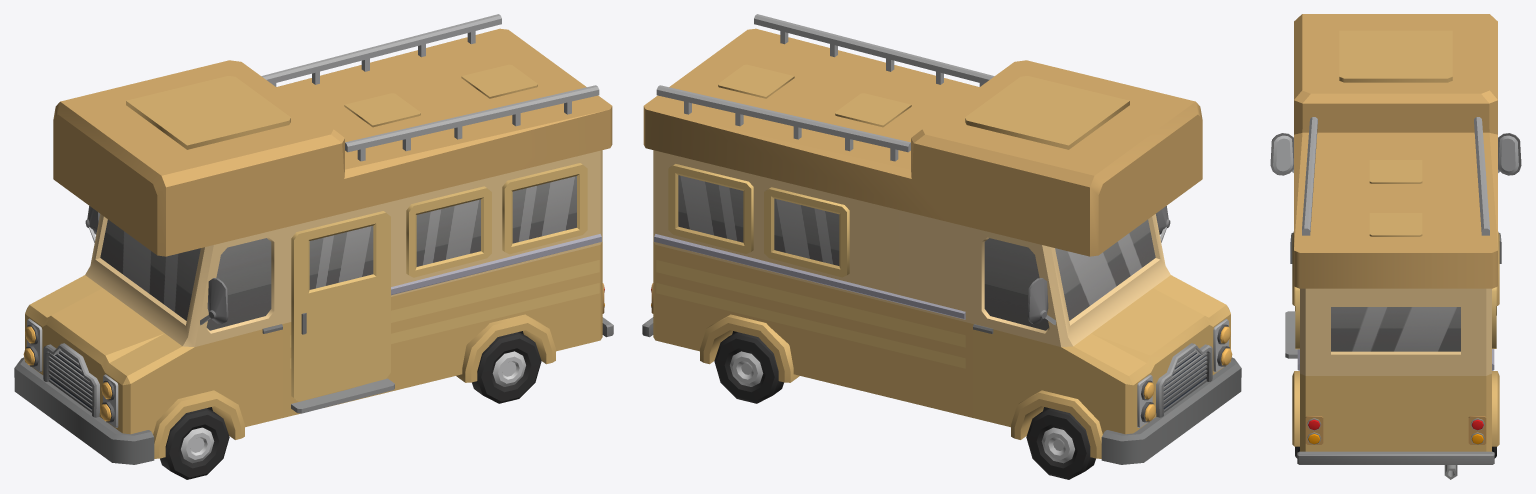
File: RVCar_L.gltf
The picture shows the model from 3 angles, left to right: view 1: azimuth 30°, elevation 25°; view 2: azimuth 150°, elevation 25°; view 3: azimuth 270°, elevation 25°; orthographic projection. The views are drawn at different scales.
Parts seen in each view (by area): view 1: RVCar_L, RL, FL; view 2: RVCar_L, RR, FR; view 3: RVCar_L.
Part boxes in pixels (<box>): RVCar_L: <box>14,14,613,464</box>; RL: <box>472,332,541,403</box>; FL: <box>160,408,229,479</box>; RVCar_L: <box>642,14,1241,464</box>; RR: <box>714,332,783,403</box>; FR: <box>1026,408,1095,479</box>; RVCar_L: <box>1270,14,1521,479</box>.
Size of the model in its own units: 4.14 by 2.46 by 1.94.
4 materials, 4 textured.
